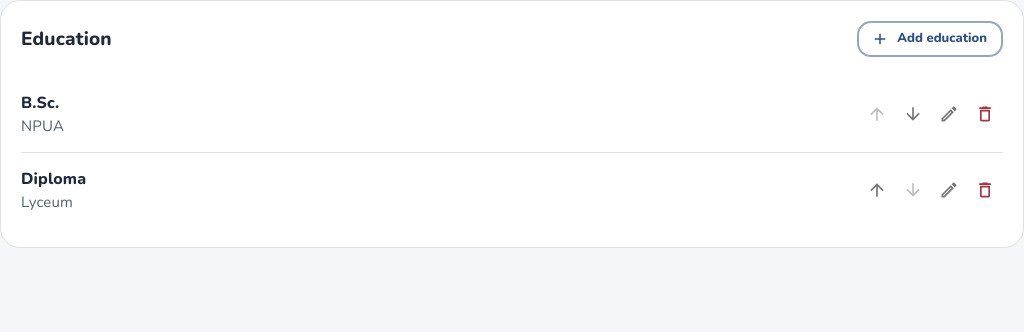
Test: SectionEditor › says the list was stale and reloads it on ORDER_STALE
Click the button named "Move up: Diploma, Lyceum" at (877, 190), box [859,172,895,208]
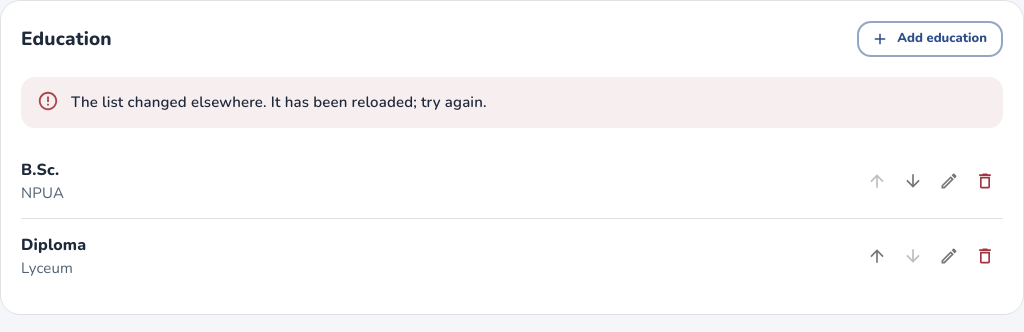
expect the message shows "The list changed elsewhere": met, box [71,92,487,112]
